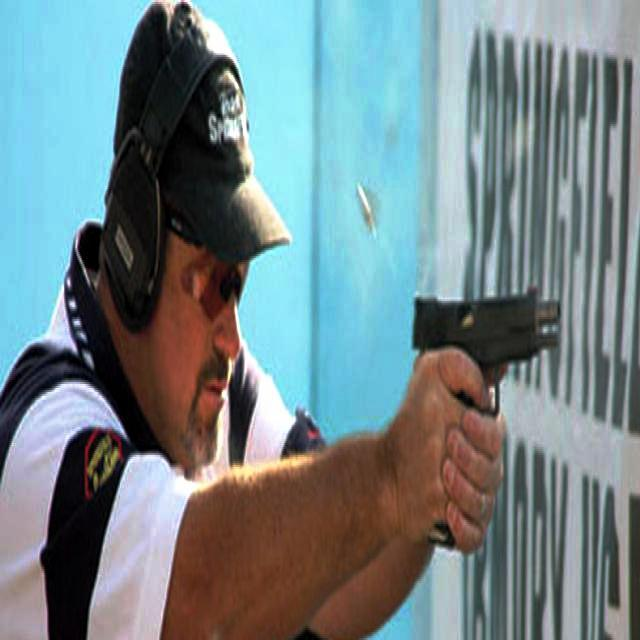Gun: (400, 276, 556, 435)
